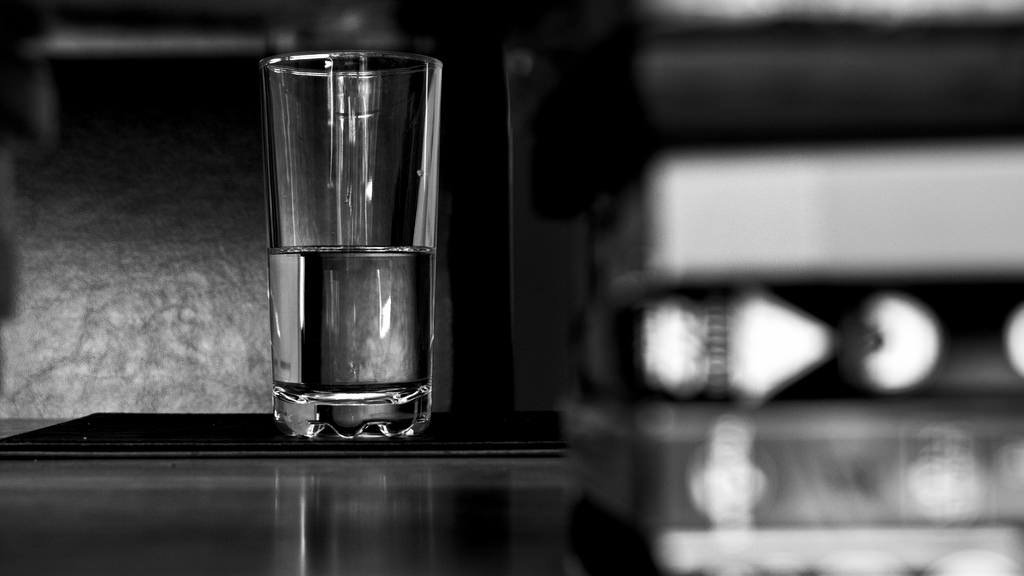glass of water: (265, 59, 437, 447)
